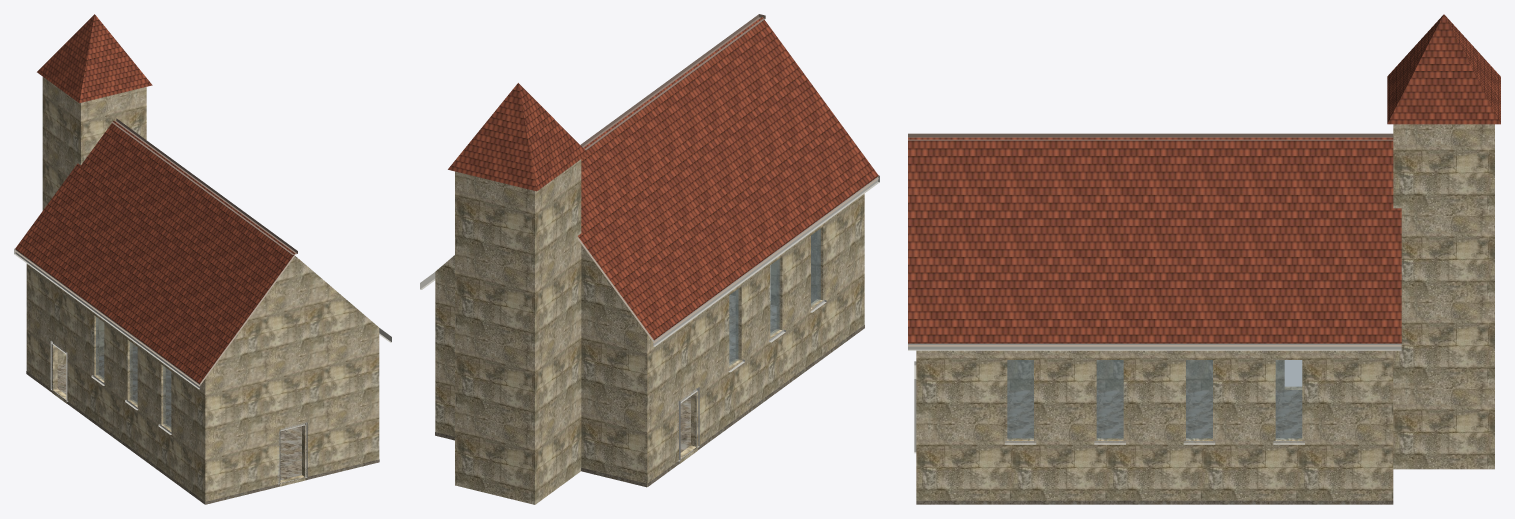
Rendered from village-chapel.glass-v1.lod1.glb.
The picture shows the model from 3 angles, left to right: view 1: azimuth 30°, elevation 25°; view 2: azimuth 150°, elevation 25°; view 3: azimuth 270°, elevation 25°; orthographic projection. The views are drawn at different scales.
Parts seen in each view (by area): view 1: village-chapel; view 2: village-chapel; view 3: village-chapel.
Part boxes in pixels (left/top/right/bottom): village-chapel: left=14, top=14, right=391, bottom=504; village-chapel: left=420, top=14, right=879, bottom=504; village-chapel: left=908, top=14, right=1500, bottom=504.
Bounding box in the file's own units: 9.98 × 16.06 × 19.87.
Materials: 6 (4 with a texture image).
